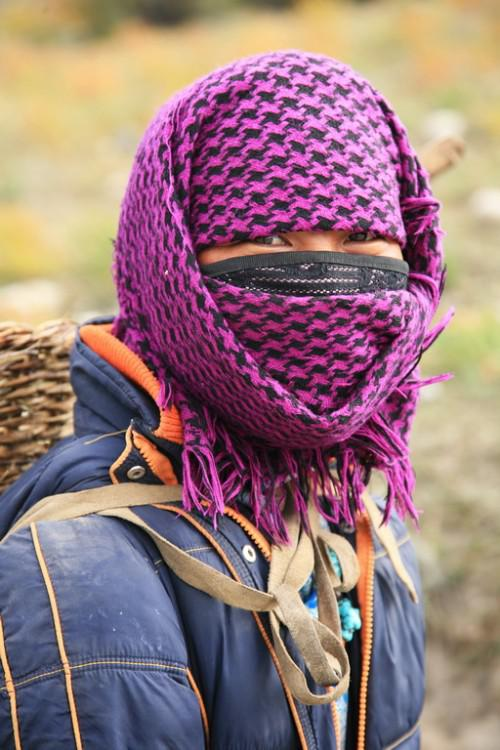OK: (195, 199, 420, 424)
